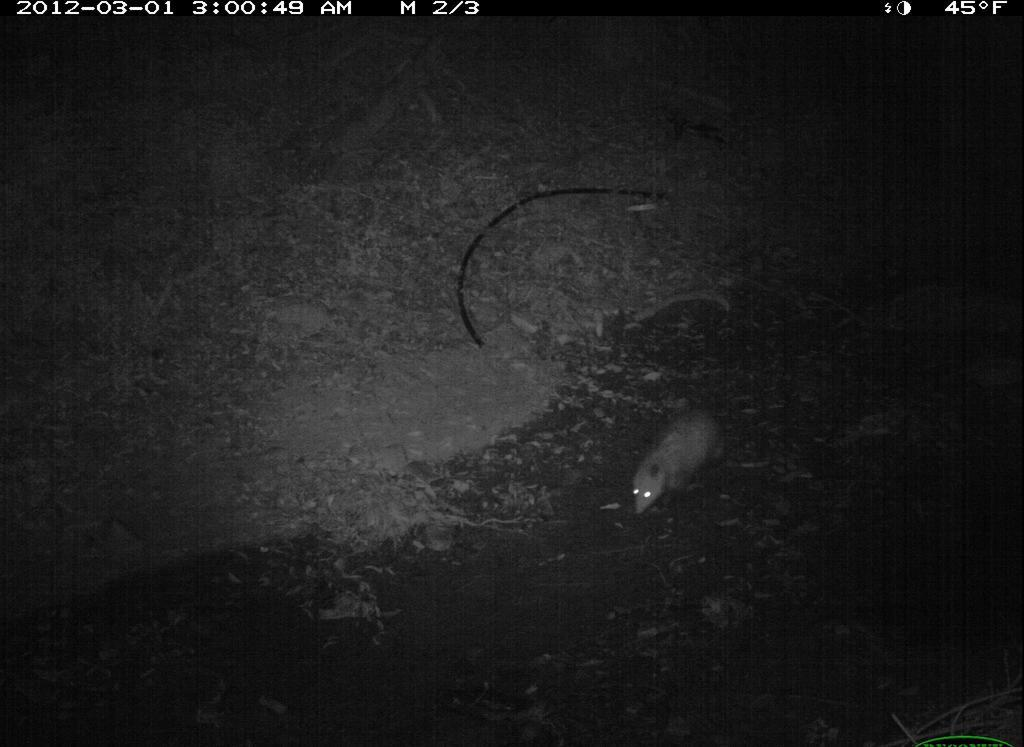opossum: (624, 402, 731, 525)
